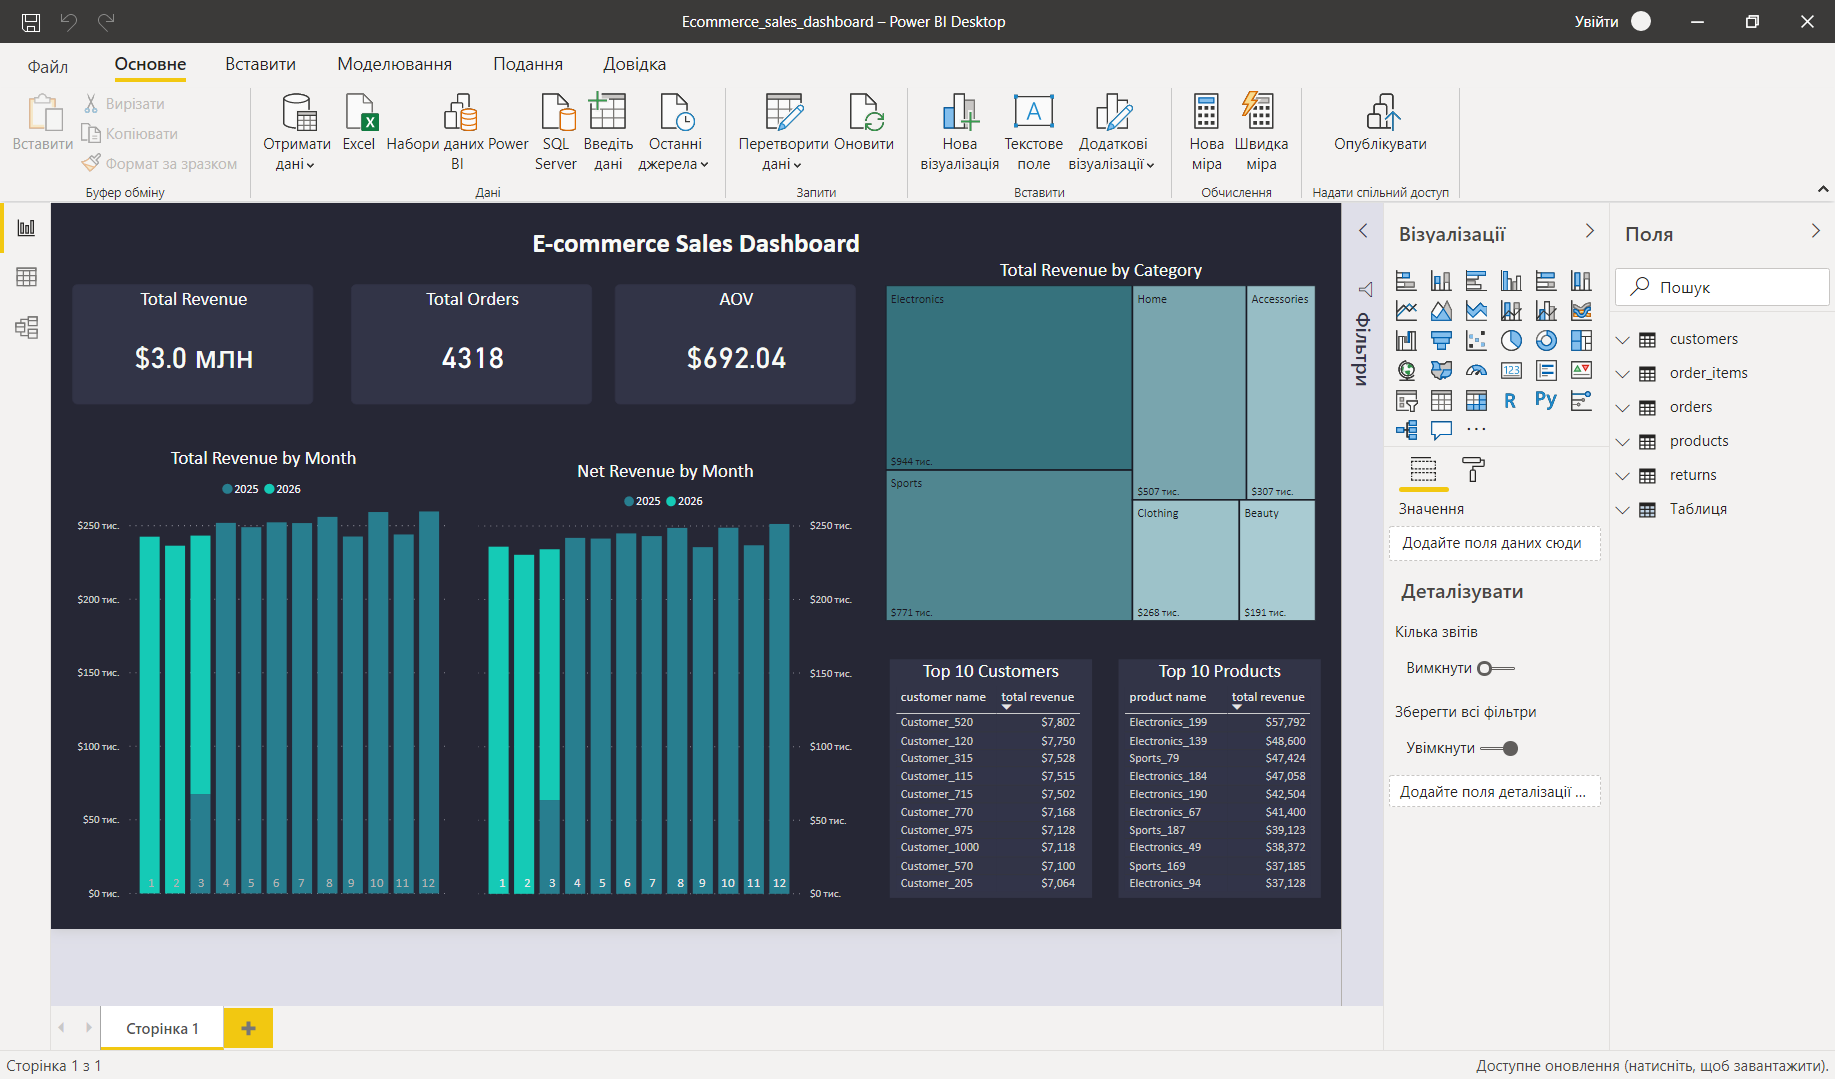

The dashboard page shown, as its layout file describes it:
{"tool":"powerbi","page":{"name":"Сторінка 1","canvas":[1280,720],"ordinal":0},"visuals":[{"type":"card","title":"Total Revenue","fields":{"Values":["order_items.total_revenue"]},"box":[21.1,80.6,239.4,119.1],"z":0},{"type":"card","title":"Total Orders","fields":{"Values":["orders.total_orders"]},"box":[297.7,80.6,239.4,119.1],"z":1000},{"type":"card","title":"AOV","fields":{"Values":["order_items.AOV"]},"box":[559.4,80.6,239.4,119.1],"z":2000},{"type":"columnChart","title":"Total Revenue by Month","fields":{"Y":["order_items.total_revenue"],"Category":["orders.order_date.Варіація.Ієрархія дат.Рік","orders.order_date.Варіація.Ієрархія дат.Квартал","orders.order_date.Варіація.Ієрархія дат.Місяць","orders.order_date.Варіація.Ієрархія дат.День"]},"box":[21.1,241.9,379.5,456.4],"z":3000},{"type":"columnChart","title":"Net Revenue by Month","fields":{"Y":["customers.Net_Revenue"],"Category":["orders.order_date.Варіація.Ієрархія дат.Рік","orders.order_date.Варіація.Ієрархія дат.Квартал","orders.order_date.Варіація.Ієрархія дат.Місяць","orders.order_date.Варіація.Ієрархія дат.День"]},"box":[419.2,254.3,380.8,444],"z":4000},{"type":"treemap","title":"Total Revenue by Category","fields":{"Group":["products.category"],"Values":["order_items.total_revenue"]},"box":[823.6,54.6,436.6,364.7],"z":5000},{"type":"tableEx","title":"Top 10 Products","fields":{"Values":["products.product_name","order_items.total_revenue"]},"box":[1059.2,452.7,200.9,236.9],"z":6000},{"type":"tableEx","title":"Top 10 Customers","fields":{"Values":["customers.customer_name","order_items.total_revenue"]},"box":[832.2,452.7,200.9,236.9],"z":7000},{"type":"textbox","box":[430.4,661.1,320,28.5],"z":8000},{"type":"textbox","box":[81.9,661.1,320,28.5],"z":9000},{"type":"textbox","box":[456.4,18.6,367.1,52.1],"z":10000}]}

Visuals, with their boxes on the page's 1280x720 design canvas (x1, y1, x2, y2). These are canvas units, not pixel positions in the 1835x1079 screenshot, which may show the page scaled, cropped or inside an application window:
"Total Revenue" card: <region>21, 81, 260, 200</region>
"Total Orders" card: <region>298, 81, 537, 200</region>
"AOV" card: <region>559, 81, 799, 200</region>
"Total Revenue by Month" columnChart: <region>21, 242, 401, 698</region>
"Net Revenue by Month" columnChart: <region>419, 254, 800, 698</region>
"Total Revenue by Category" treemap: <region>824, 55, 1260, 419</region>
"Top 10 Products" tableEx: <region>1059, 453, 1260, 690</region>
"Top 10 Customers" tableEx: <region>832, 453, 1033, 690</region>
textbox: <region>430, 661, 750, 690</region>
textbox: <region>82, 661, 402, 690</region>
textbox: <region>456, 19, 824, 71</region>
